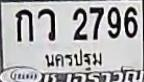2: (72, 7, 86, 39)
6: (123, 6, 137, 37)
7: (89, 6, 103, 39)
9: (107, 6, 120, 38)
A01: (15, 8, 32, 41)
A37: (37, 8, 54, 40)
NPT: (41, 47, 105, 72)
